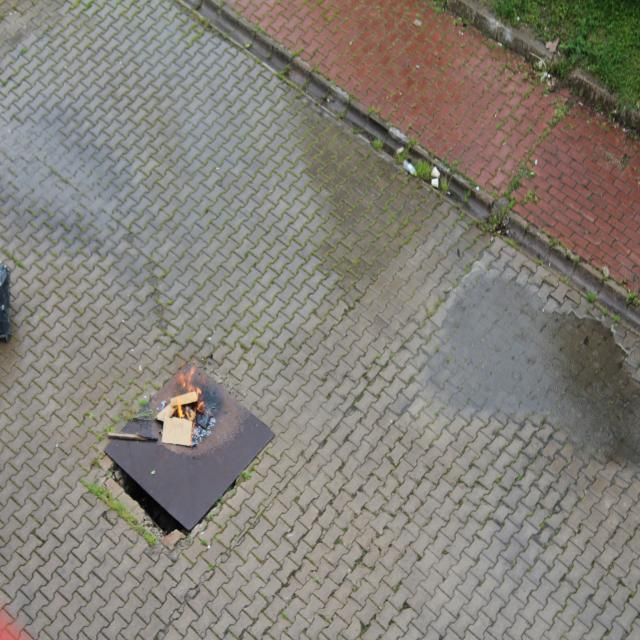fire: (155, 353, 204, 447)
